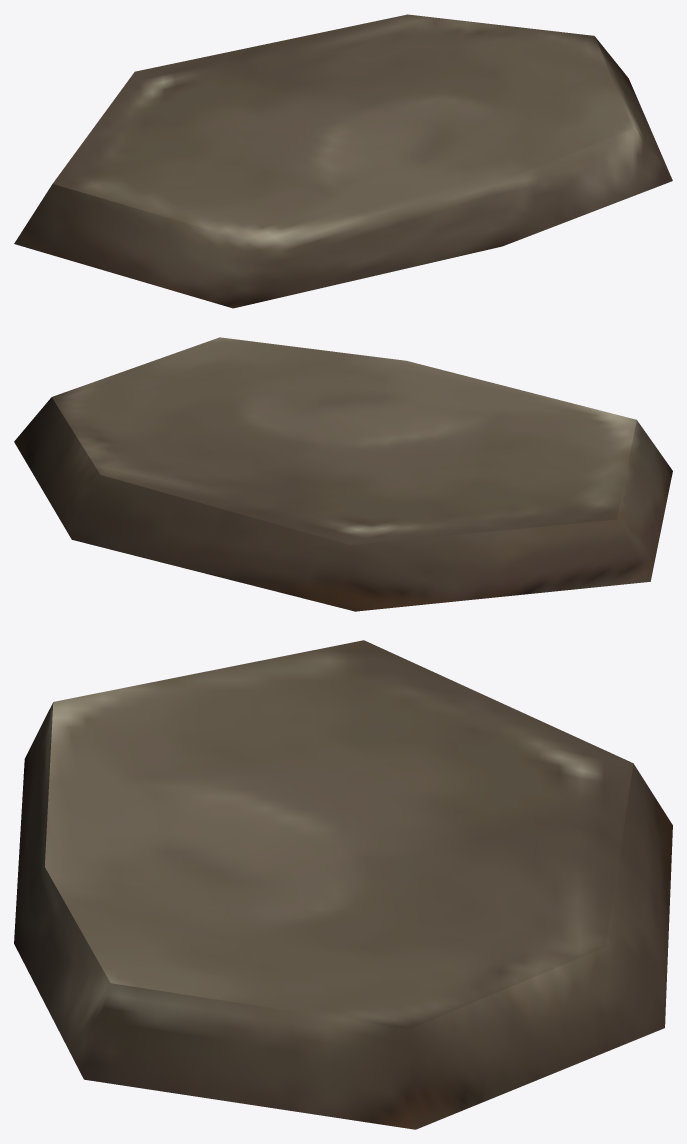
File: XiaoShiTou05.FBX
3 views of the same model, one above another, from view 1: azimuth 30°, elevation 25°; view 2: azimuth 150°, elevation 25°; view 3: azimuth 270°, elevation 25° (orthographic). The views are drawn at different scales.
Visible parts, largest first — view 1: XiaoShiTou05; view 2: XiaoShiTou05; view 3: XiaoShiTou05.
Part boxes in pixels (bbox=[...]): XiaoShiTou05: bbox=[14, 14, 672, 308]; XiaoShiTou05: bbox=[14, 337, 672, 611]; XiaoShiTou05: bbox=[14, 640, 672, 1129].
Size of the model in its own units: 50.05 by 4 by 31.71.
